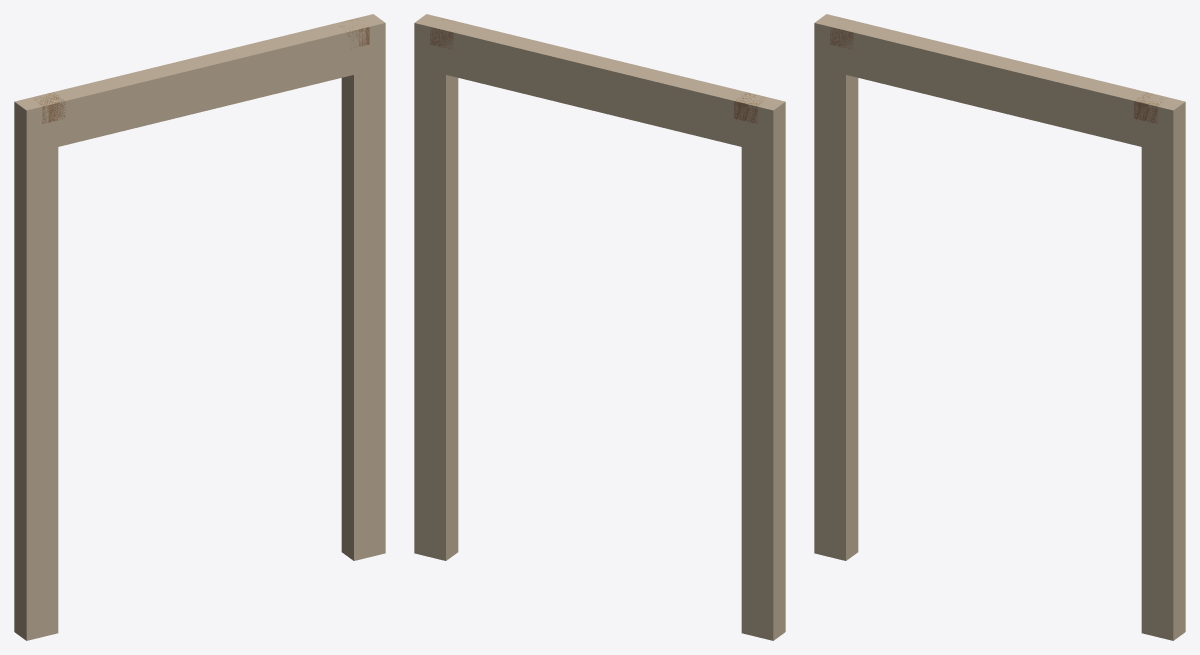
3 renders of one model, left to right at view 1: azimuth 30°, elevation 25°; view 2: azimuth 150°, elevation 25°; view 3: azimuth 330°, elevation 25°, orthographic.
Visible parts, largest first — view 1: left-jamb, right-jamb, header, step--0.72; view 2: left-jamb, right-jamb, header, step--0.72; view 3: right-jamb, left-jamb, header.
Part boxes in pixels (<box>): left-jamb: <box>14,146,58,640</box>; right-jamb: <box>341,67,385,560</box>; header: <box>14,14,385,154</box>; step--0.72: <box>34,92,65,123</box>; left-jamb: <box>741,146,785,640</box>; right-jamb: <box>414,67,458,560</box>; header: <box>414,14,785,154</box>; step--0.72: <box>734,92,766,123</box>; right-jamb: <box>1141,146,1185,640</box>; left-jamb: <box>814,67,858,560</box>; header: <box>814,14,1185,154</box>.
Size of the model in its own units: 1.7 by 2.4 by 0.1.
